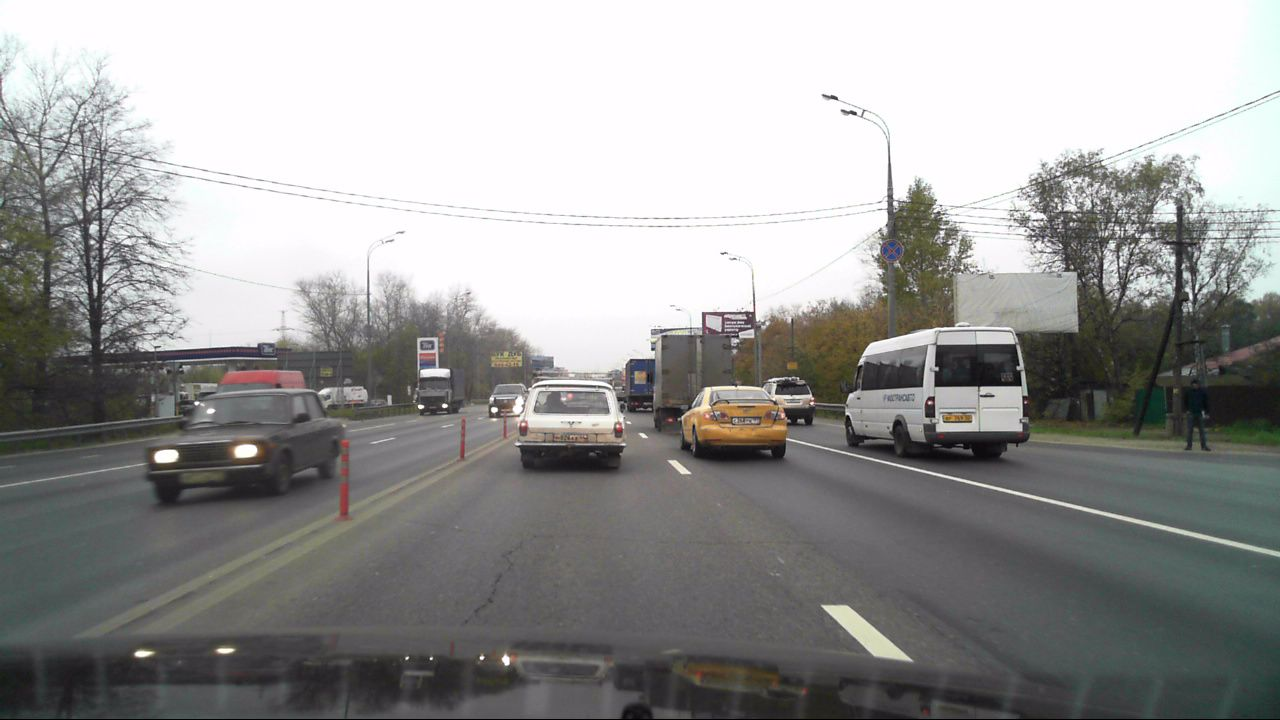No Parking: (879, 240, 903, 263)
